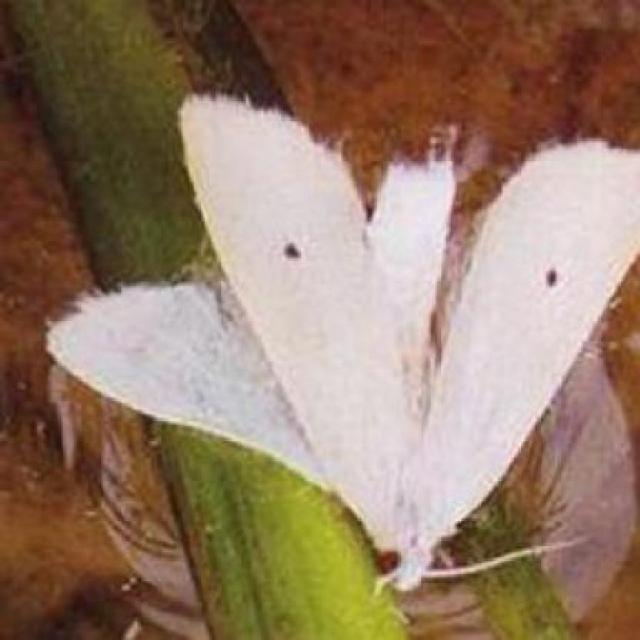stem-borer: (41, 96, 637, 595)
